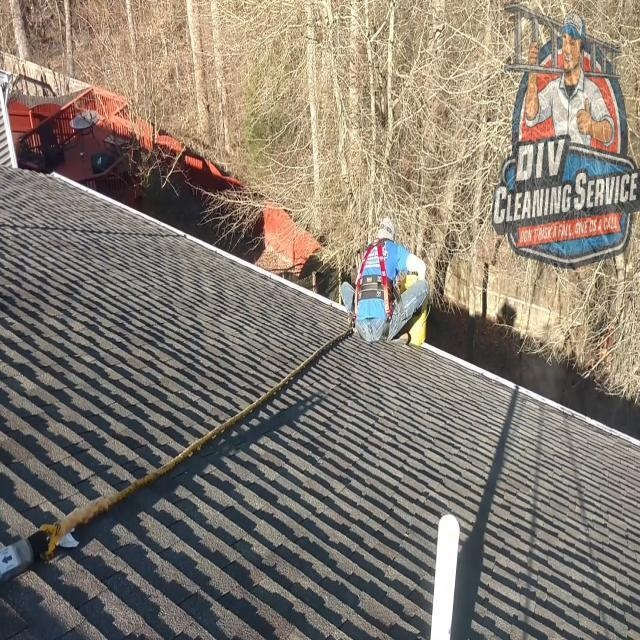Arnes_seguridad: (350, 231, 394, 346)
